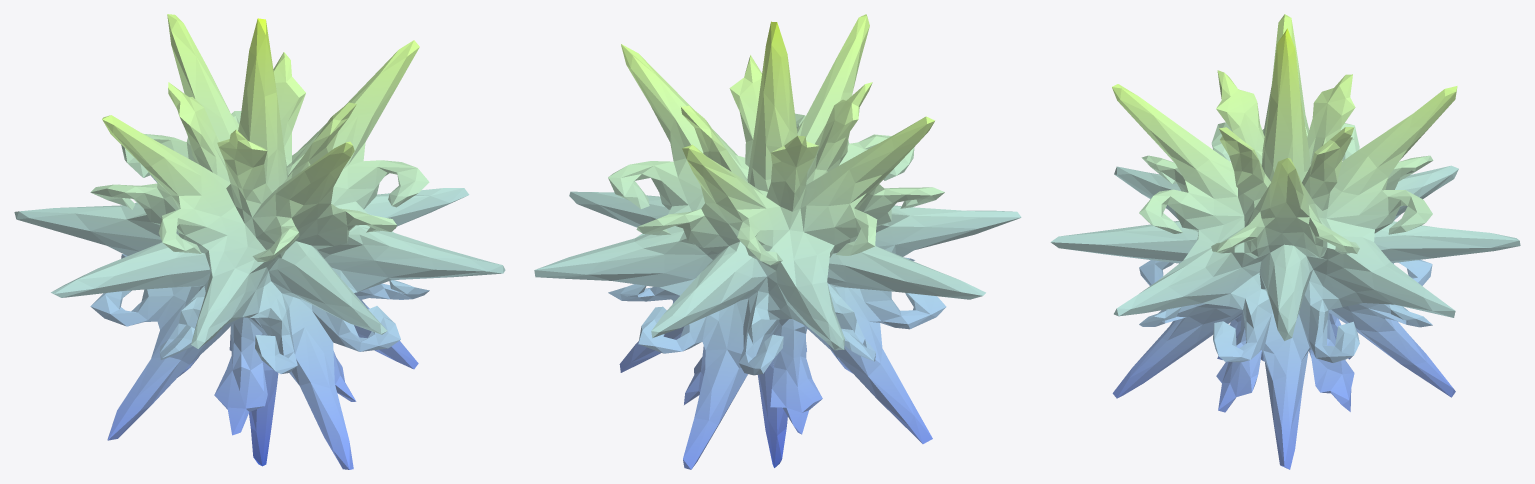
Rendered from 120_cyb_laser_gradient_fish_scales_2918_2026_10_03_4e84f8.glb.
3 views of the same model, side by side, from view 1: azimuth 30°, elevation 25°; view 2: azimuth 150°, elevation 25°; view 3: azimuth 270°, elevation 25° (orthographic). The views are drawn at different scales.
Visible parts, largest first — view 1: geometry_0; view 2: geometry_0; view 3: geometry_0.
Boxes of the visible parts, <box> form: geometry_0: <box>14,14,505,469</box>; geometry_0: <box>534,14,1021,469</box>; geometry_0: <box>1050,14,1520,469</box>.
Bounding box in the file's own units: 0.961 × 0.9845 × 0.9873.
